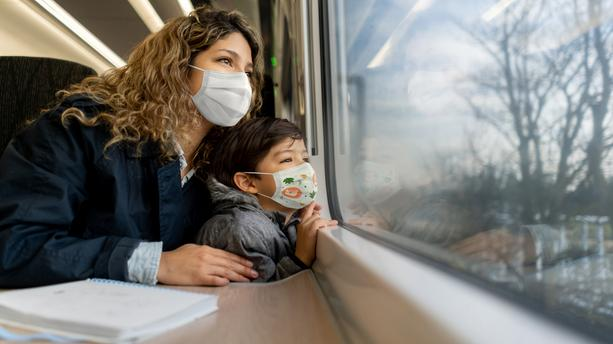with_mask: (190, 44, 256, 127), (237, 147, 321, 208)
